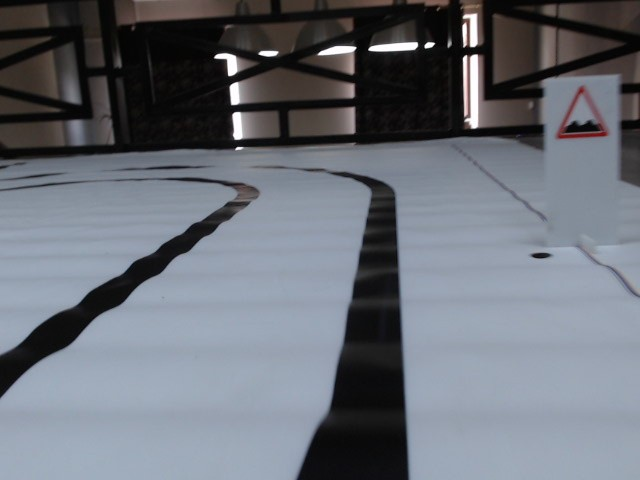Nerov: (554, 85, 610, 141)
